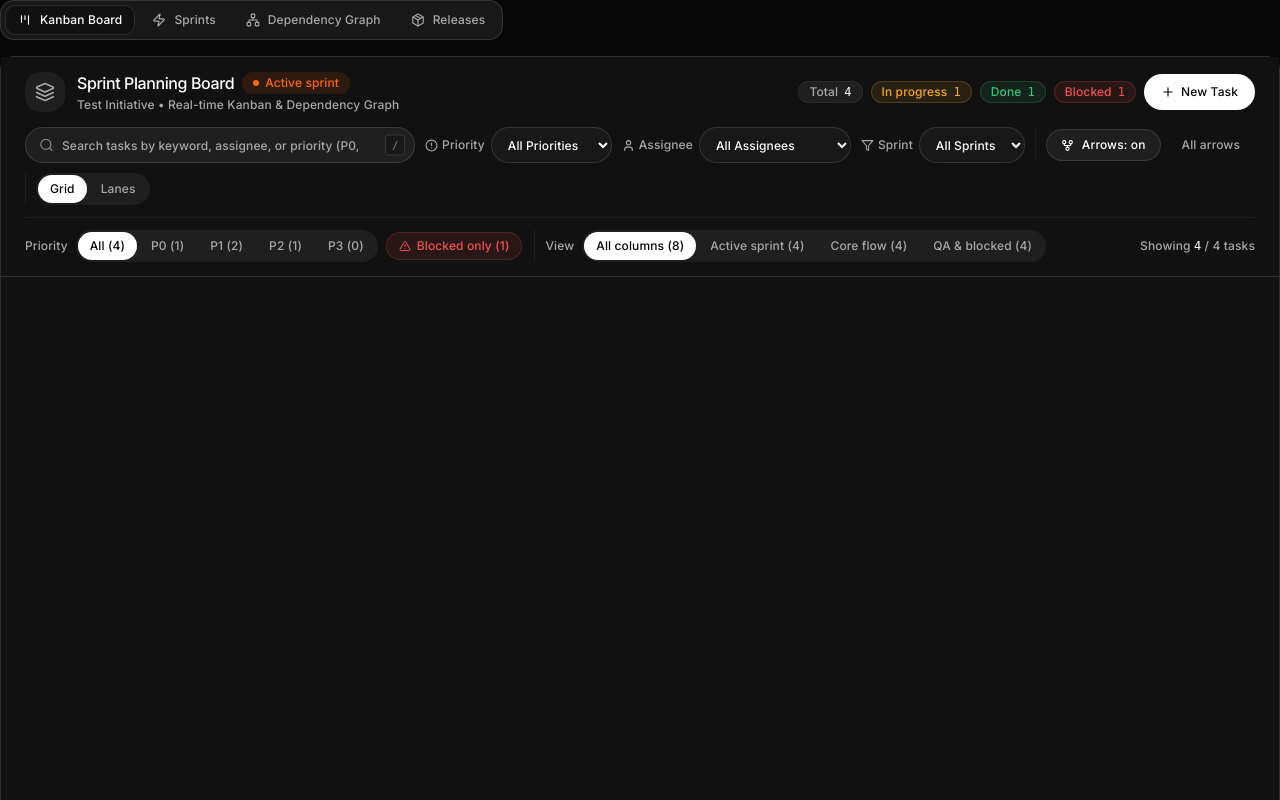
KanbanTab Task Dependencies and Blockers › filters tasks when clicking the BLOCKED ONLY filter chip
Step 1. Click the button with id "kanban-blocked-only-filter-btn" → (454, 246), box [386, 232, 522, 260]
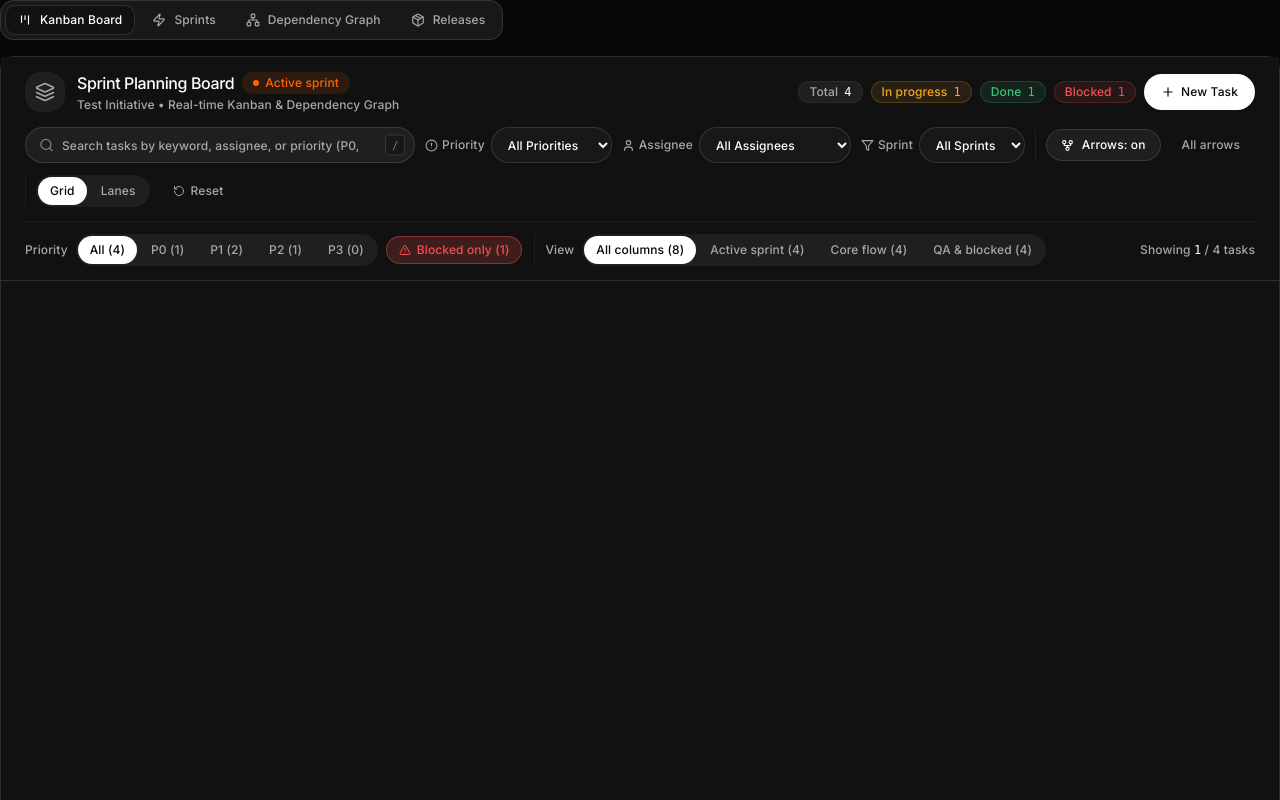
Expected: the text "Audit Logging Service" is not shown
# Clicking it again toggles it off
Step 2. Click the button with id "kanban-blocked-only-filter-btn" → (454, 250), box [386, 236, 522, 264]
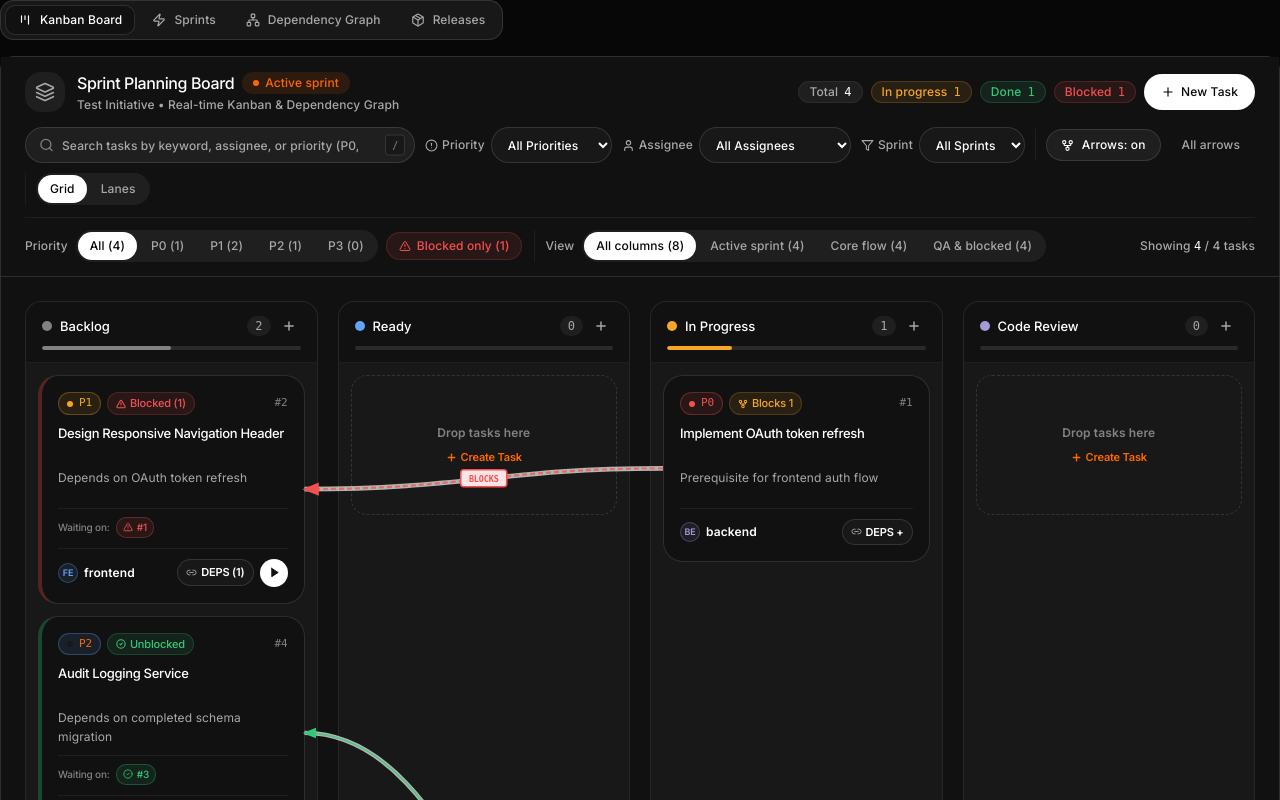
Expected: the text "Audit Logging Service" is shown, [58, 665, 188, 681]
